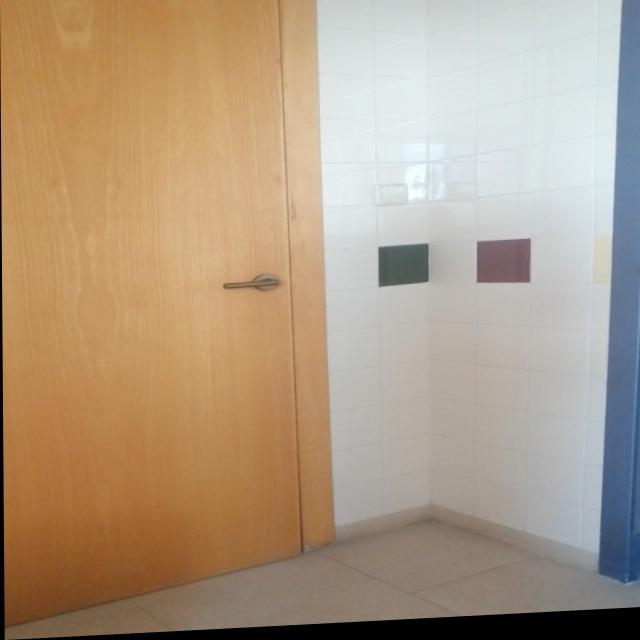door_handle: (219, 281, 283, 293)
